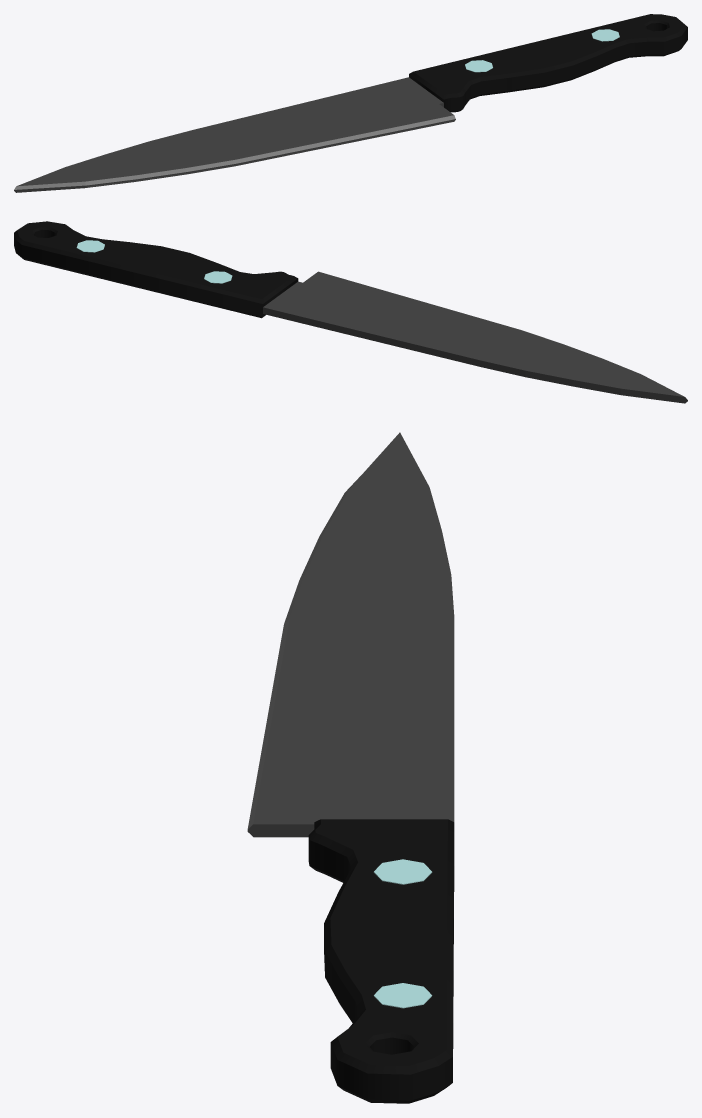
The model's file is kitchen knife.obj.
3 views of the same model, one above another, from view 1: azimuth 30°, elevation 25°; view 2: azimuth 150°, elevation 25°; view 3: azimuth 270°, elevation 25° (orthographic). The views are drawn at different scales.
Parts seen in each view (by area): view 1: Plane, Plane.001, Circle; view 2: Plane, Plane.001, Circle; view 3: Plane, Plane.001, Circle.
Boxes of the visible parts, x1,y1,x2,y2 form: Plane: [14, 77, 455, 192]; Plane.001: [409, 14, 687, 112]; Circle: [465, 29, 619, 72]; Plane: [263, 271, 687, 403]; Plane.001: [14, 221, 298, 318]; Circle: [76, 240, 232, 283]; Plane: [247, 432, 454, 837]; Plane.001: [308, 819, 454, 1103]; Circle: [373, 859, 432, 1008].
Bounding box in the file's own units: 1.9 × 0.0533 × 0.2545.
